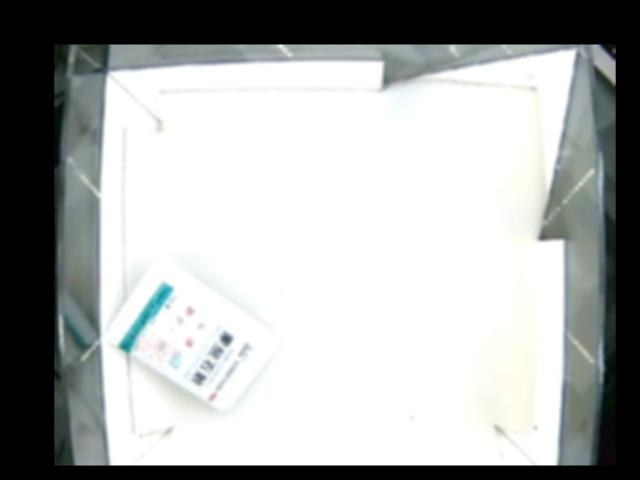Medicine: (106, 256, 281, 412)
